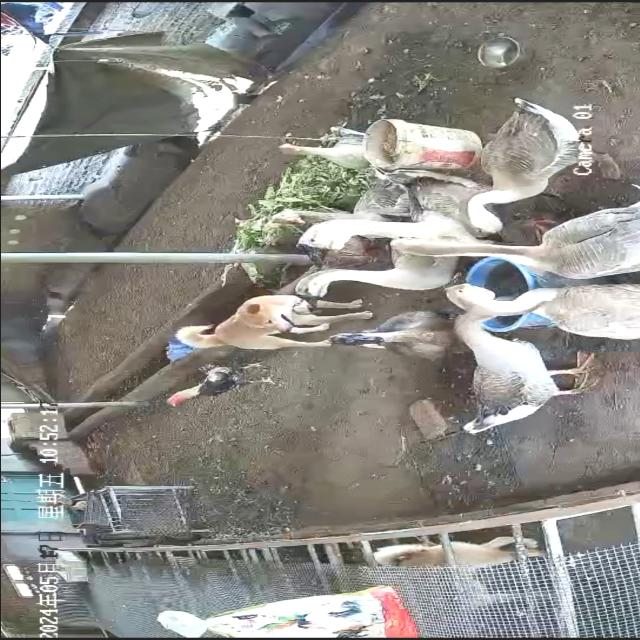dog: (175, 296, 375, 352), (373, 537, 546, 570)
